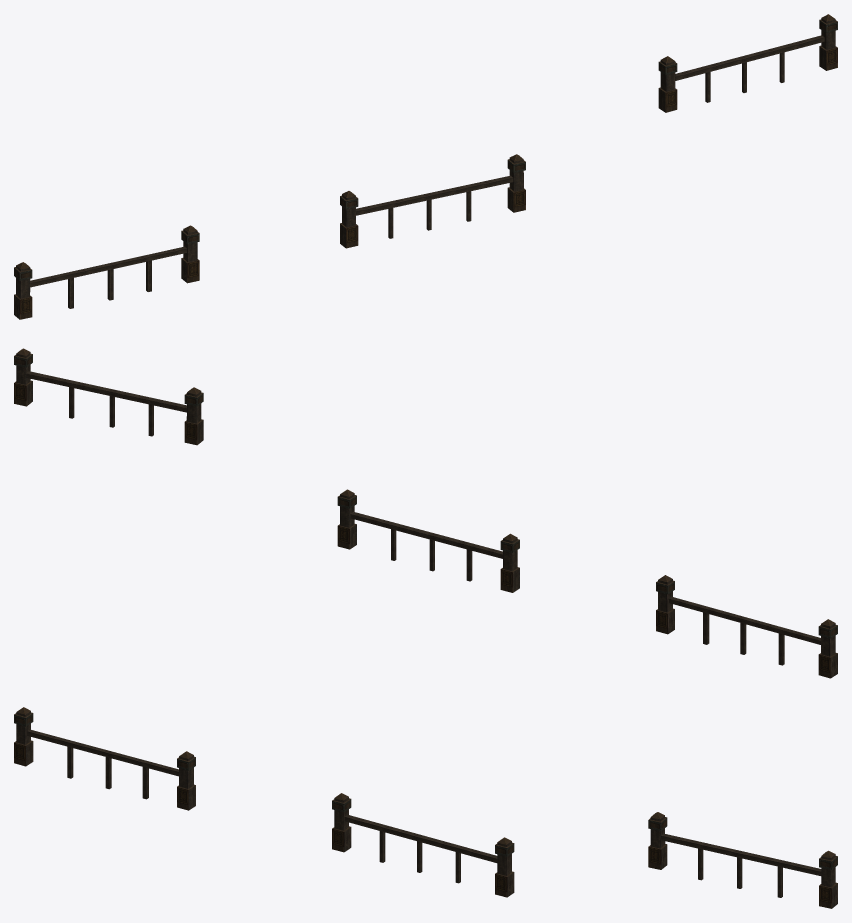
File: rail_crack04.fbx
The picture shows the model from 3 angles, top to bottom: view 1: azimuth 30°, elevation 25°; view 2: azimuth 150°, elevation 25°; view 3: azimuth 330°, elevation 25°; orthographic projection. The views are drawn at different scales.
Parts seen in each view (by area): view 1: ship_rail_04; view 2: ship_rail_04; view 3: ship_rail_04.
Boxes of the visible parts, <box> form: ship_rail_04: <box>14,14,837,319</box>; ship_rail_04: <box>14,348,837,678</box>; ship_rail_04: <box>14,707,837,908</box>.
Size of the model in its own units: 43.68 by 6.13 by 1.92.
